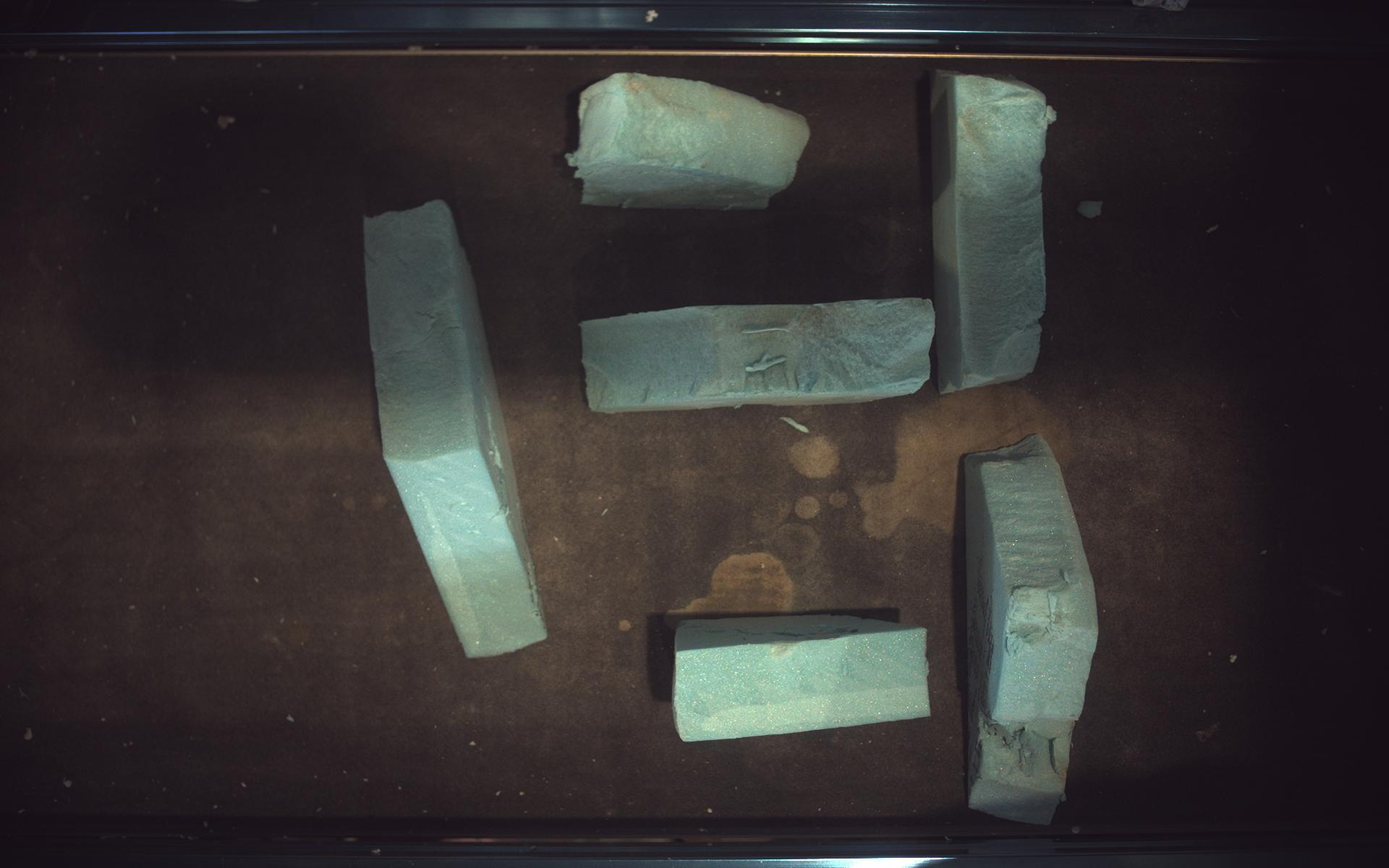foam: (365, 200, 547, 658), (967, 436, 1100, 826), (582, 297, 937, 412), (933, 69, 1058, 392), (567, 72, 811, 208), (674, 616, 932, 743)
